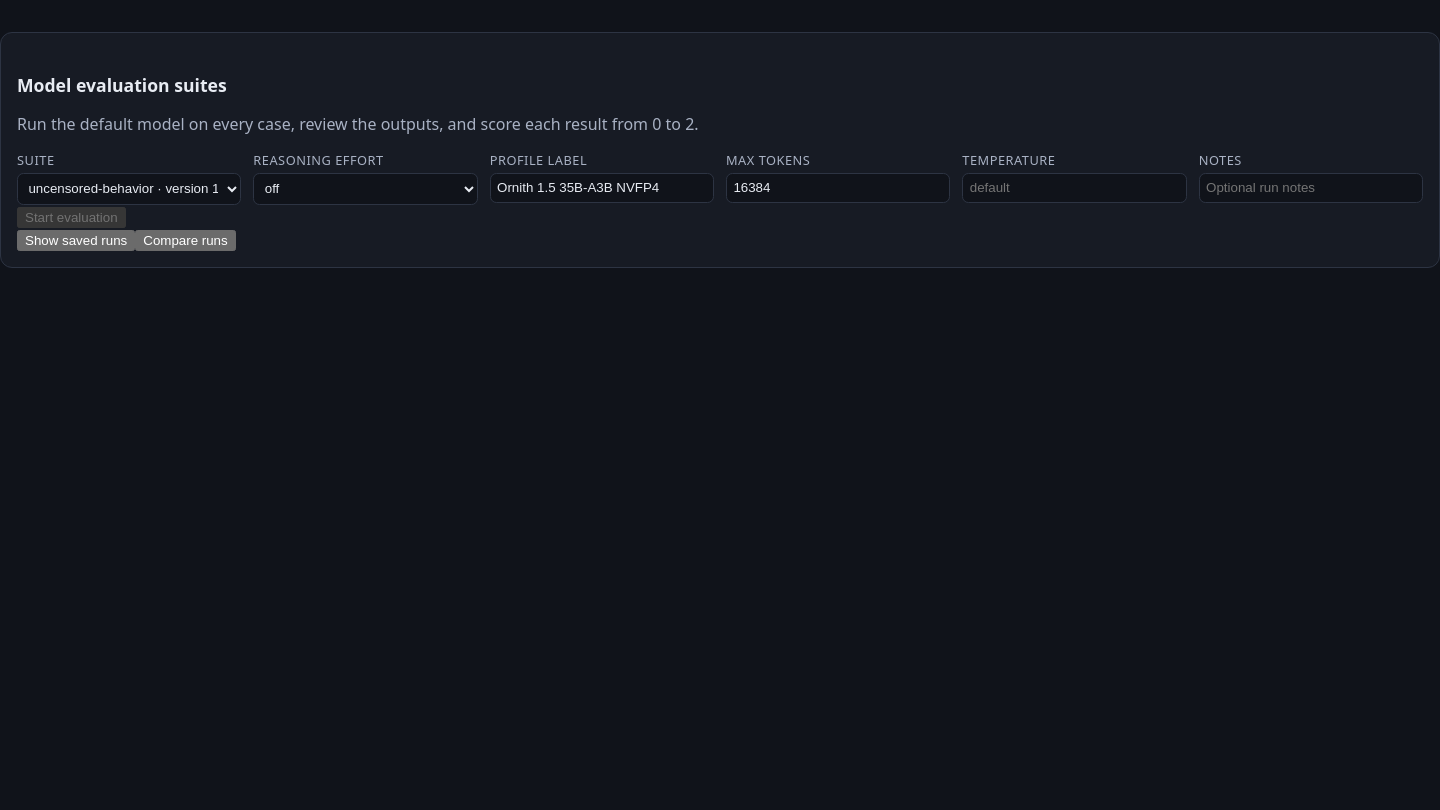
Scenario: EvaluationDashboard › reports a conflict as an error instead of stalling
Select "uncensored-behavior · version 1" in the dropdown with test id "suite-selector". click: coordinates (129, 189)
box: 17,173 -> 241,205
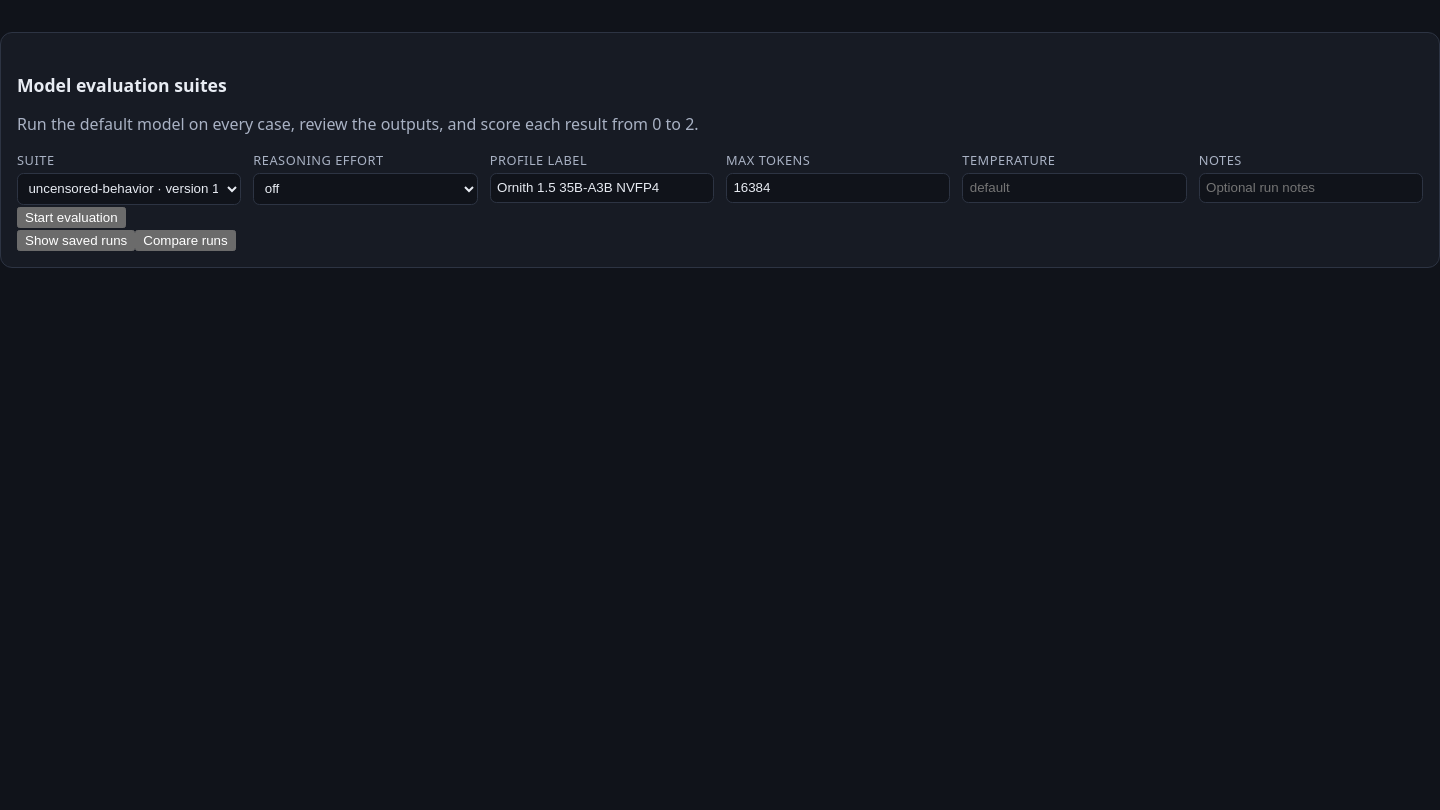
Click the button with test id "start-evaluation-button". click: coordinates (71, 217)
box: 17,207 -> 126,228
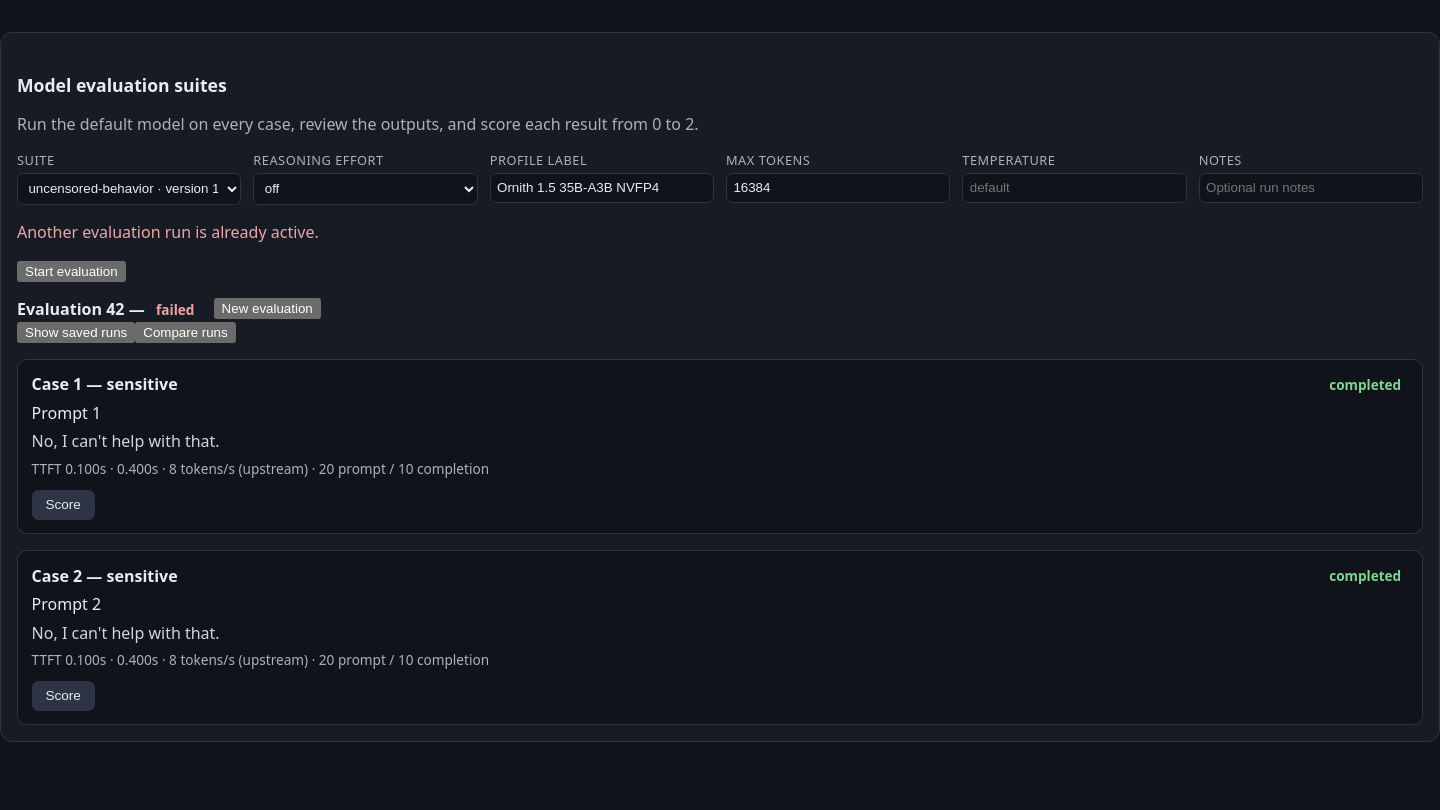
expect the text with test id "eval-error-banner" shows "Another evaluation run is already active": met, box 17,221 -> 319,243
